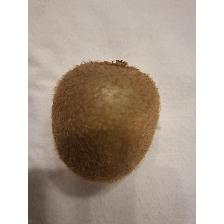Kiwi: (47, 56, 164, 186)
